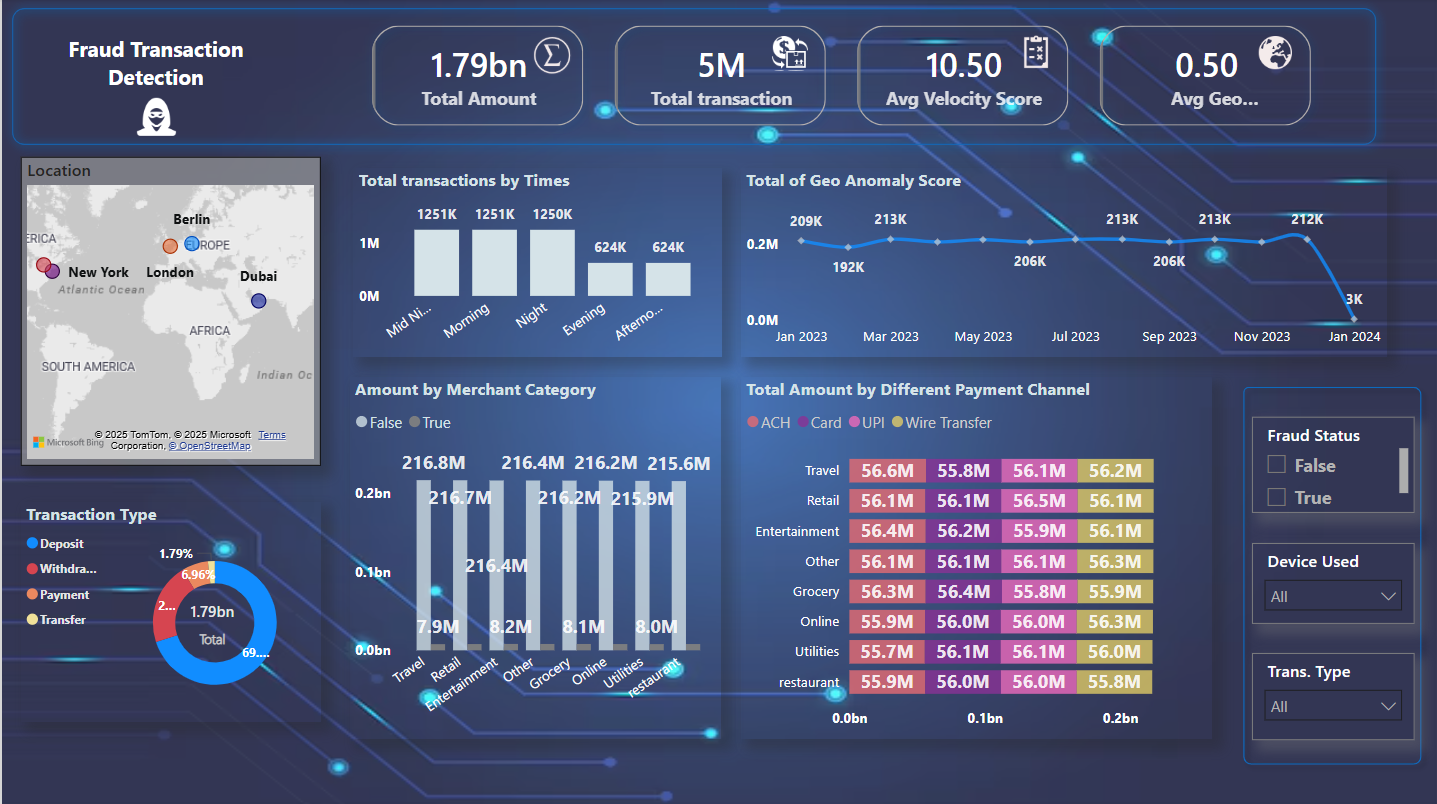

What the dashboard file says about the page in this screenshot:
{"tool":"powerbi","page":{"name":"Page 1","canvas":[1280,720],"ordinal":0},"visuals":[{"type":"shape","box":[1096.9,337.4,176.7,354.6],"z":0},{"type":"shape","box":[0,0,1233.1,139.9],"z":1000},{"type":"clusteredColumnChart","title":"Total transactions by Times","fields":{"Category":["financial_fraud_detection_dataset.Times"],"Y":["CountNonNull(financial_fraud_detection_dataset.transaction_id)"]},"box":[312.9,150.9,327.6,168.1],"z":2000},{"type":"donutChart","title":"Transaction Type","fields":{"Category":["financial_fraud_detection_dataset.transaction_type"],"Y":["Sum(financial_fraud_detection_dataset.amount)"]},"box":[17.2,449.1,267.5,196.3],"z":3000},{"type":"clusteredColumnChart","title":"Amount by Merchant Category ","fields":{"Category":["financial_fraud_detection_dataset.merchant_category"],"Y":["Sum(financial_fraud_detection_dataset.amount)"],"Series":["financial_fraud_detection_dataset.is_fraud"]},"box":[309.2,337.4,331.3,322.7],"z":4000},{"type":"barChart","title":"Total Amount by Different Payment Channel","fields":{"Category":["financial_fraud_detection_dataset.merchant_category"],"Series":["financial_fraud_detection_dataset.payment_channel"],"Y":["Sum(financial_fraud_detection_dataset.amount)"]},"box":[657.7,337.4,419.6,322.7],"z":5000},{"type":"slicer","fields":{"Values":["financial_fraud_detection_dataset.is_fraud"]},"box":[1112.9,373,144.8,85.9],"z":6000},{"type":"textbox","box":[40.5,28.2,193.9,83.4],"z":7000},{"type":"cardVisual","fields":{"Data":["financial_fraud_detection_dataset.Total Amount","financial_fraud_detection_dataset.Total transaction","Avg(financial_fraud_detection_dataset.velocity_score)","Avg(financial_fraud_detection_dataset.geo_anomaly_score)"]},"box":[312.9,7.4,872.4,123.9],"z":8000},{"type":"slicer","fields":{"Values":["financial_fraud_detection_dataset.device_used"]},"box":[1112.9,485.9,144.8,72.4],"z":9000},{"type":"slicer","fields":{"Values":["financial_fraud_detection_dataset.transaction_type"]},"box":[1112.9,582.8,144.8,77.3],"z":10000},{"type":"map","title":"Location","fields":{"Category":["financial_fraud_detection_dataset.location"],"Series":["financial_fraud_detection_dataset.location"]},"box":[17.2,141.1,267.5,274.8],"z":11000},{"type":"card","fields":{"Values":["Sum(financial_fraud_detection_dataset.amount)"]},"box":[139.9,521.5,94.5,72.4],"z":12000},{"type":"lineChart","title":"Total of Geo Anomaly Score ","fields":{"Y":["Sum(financial_fraud_detection_dataset.geo_anomaly_score)"],"Category":["financial_fraud_detection_dataset.Date.Variation.Date Hierarchy.Year","financial_fraud_detection_dataset.Date.Variation.Date Hierarchy.Month"]},"box":[657.7,150.9,575.5,168.1],"z":13000},{"type":"image","box":[108,79.8,58.9,51.5],"z":14000},{"type":"image","box":[679.8,28.2,42.9,41.7],"z":15000},{"type":"image","box":[895.7,28.2,50.3,41.7],"z":16000},{"type":"image","box":[1112.9,28.2,41.7,41.7],"z":17000},{"type":"image","box":[463.8,28.2,51.5,46.6],"z":18000}]}

Visuals, with their boxes in screenshot pixels (x1, y1, x2, y2), scaled from the page's 1280x720 canvas onto the 1437x804 screenshot:
shape: 1231/377/1430/773
shape: 0/0/1384/156
"Total transactions by Times" clusteredColumnChart: 351/169/719/356
"Transaction Type" donutChart: 19/501/320/721
"Amount by Merchant Category " clusteredColumnChart: 347/377/719/737
"Total Amount by Different Payment Channel" barChart: 738/377/1209/737
slicer - financial_fraud_detection_dataset.is_fraud: 1249/417/1412/512
textbox: 45/31/263/125
cardVisual - financial_fraud_detection_dataset.Total Amount x financial_fraud_detection_dataset.Total transaction: 351/8/1331/147
slicer - financial_fraud_detection_dataset.device_used: 1249/543/1412/623
slicer - financial_fraud_detection_dataset.transaction_type: 1249/651/1412/737
"Location" map: 19/158/320/464
card - Sum(financial_fraud_detection_dataset.amount): 157/582/263/663
"Total of Geo Anomaly Score " lineChart: 738/169/1384/356
image: 121/89/187/147
image: 763/31/811/78
image: 1006/31/1062/78
image: 1249/31/1296/78
image: 521/31/579/84
